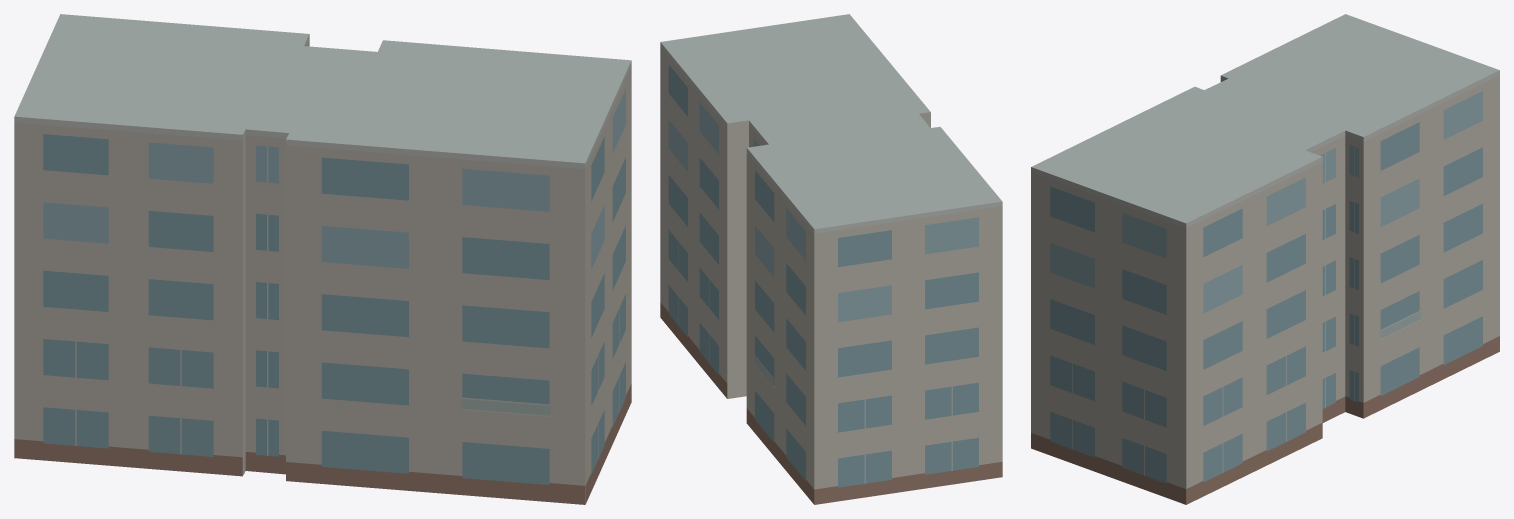
File: survey-upis-32539210.glb
The picture shows the model from 3 angles, left to right: view 1: azimuth 30°, elevation 25°; view 2: azimuth 150°, elevation 25°; view 3: azimuth 270°, elevation 25°; orthographic projection. The views are drawn at different scales.
Visible parts, largest first — view 1: survey-upis-32539210.tmp; view 2: survey-upis-32539210.tmp; view 3: survey-upis-32539210.tmp.
Part boxes in pixels (x1,y1,x2,y2): survey-upis-32539210.tmp: [14, 14, 631, 504]; survey-upis-32539210.tmp: [660, 14, 1002, 504]; survey-upis-32539210.tmp: [1031, 14, 1499, 504].
Bounding box in the file's own units: 22.82 × 14.3 × 21.59.
